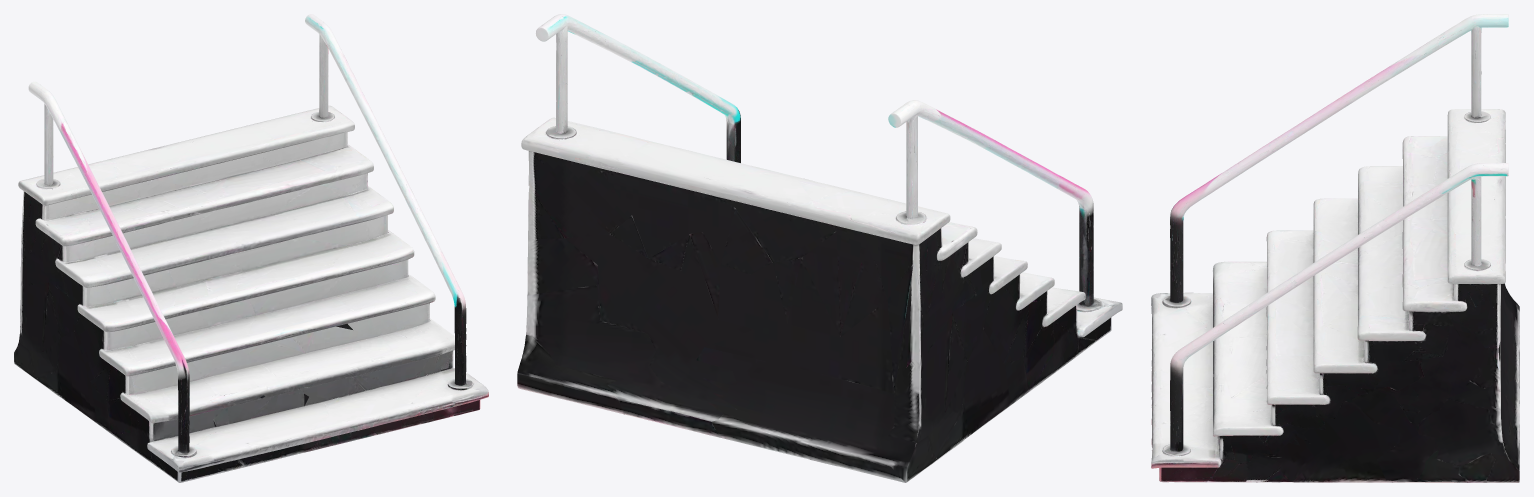
File: prop_rail.glb
The picture shows the model from 3 angles, left to right: view 1: azimuth 30°, elevation 25°; view 2: azimuth 150°, elevation 25°; view 3: azimuth 270°, elevation 25°; orthographic projection. The views are drawn at different scales.
Visible parts, largest first — view 1: Mesh_0; view 2: Mesh_0; view 3: Mesh_0.
Part boxes in pixels (bbox=[...]): Mesh_0: bbox=[14, 14, 488, 482]; Mesh_0: bbox=[517, 14, 1122, 482]; Mesh_0: bbox=[1151, 14, 1519, 482].
Size of the model in its own units: 1.9 by 1.64 by 1.75.
Materials: 1 (1 with a texture image).
